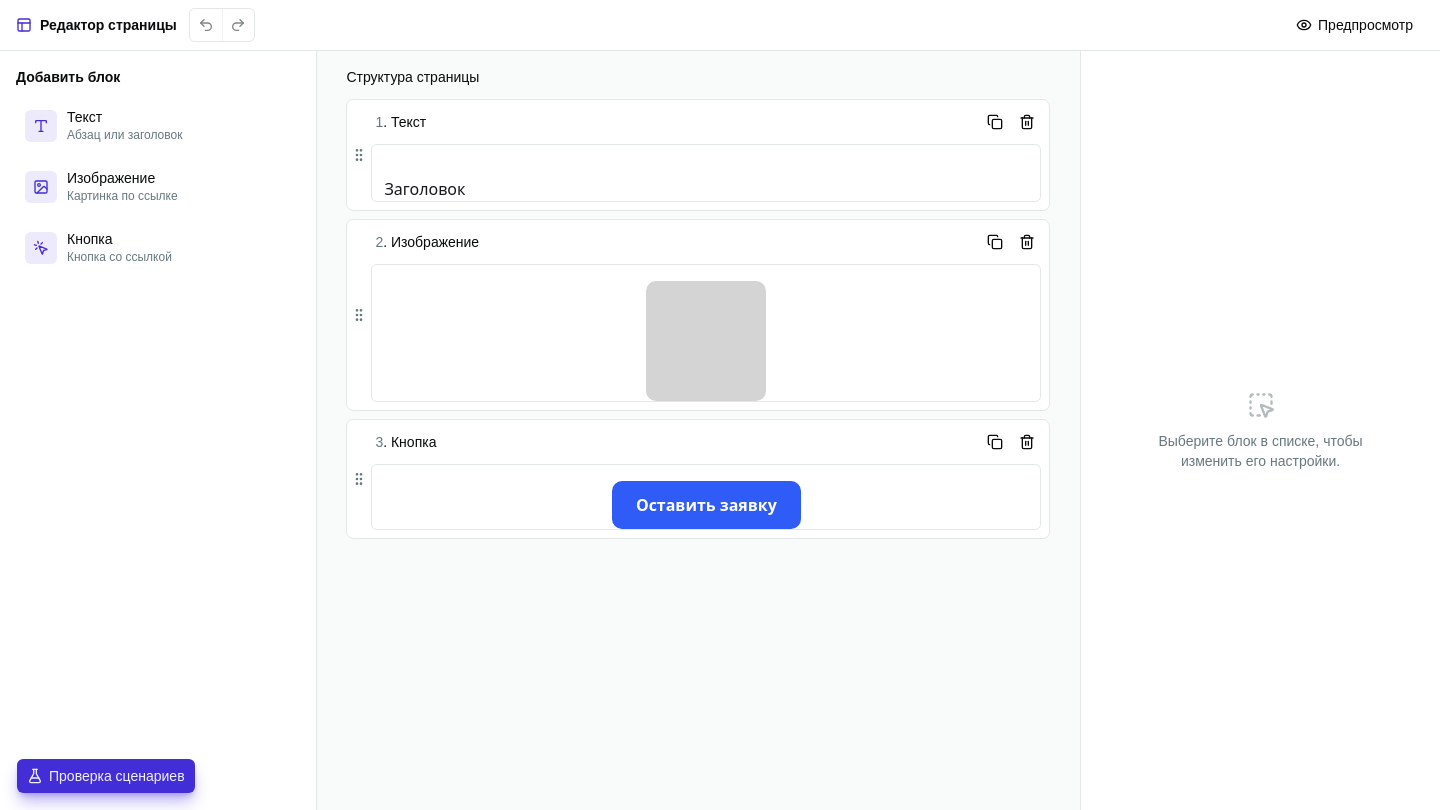
Test: history › drops the redo branch once a new change is made after undo
Expected: the heading "Структура страницы" is shown, [346,69,479,85]
What coordinates should you click on to do the following:
click the button "Кнопка Кнопка со ссылкой"
I would click on:
 (158, 248)
Its box is [16,221,300,274].
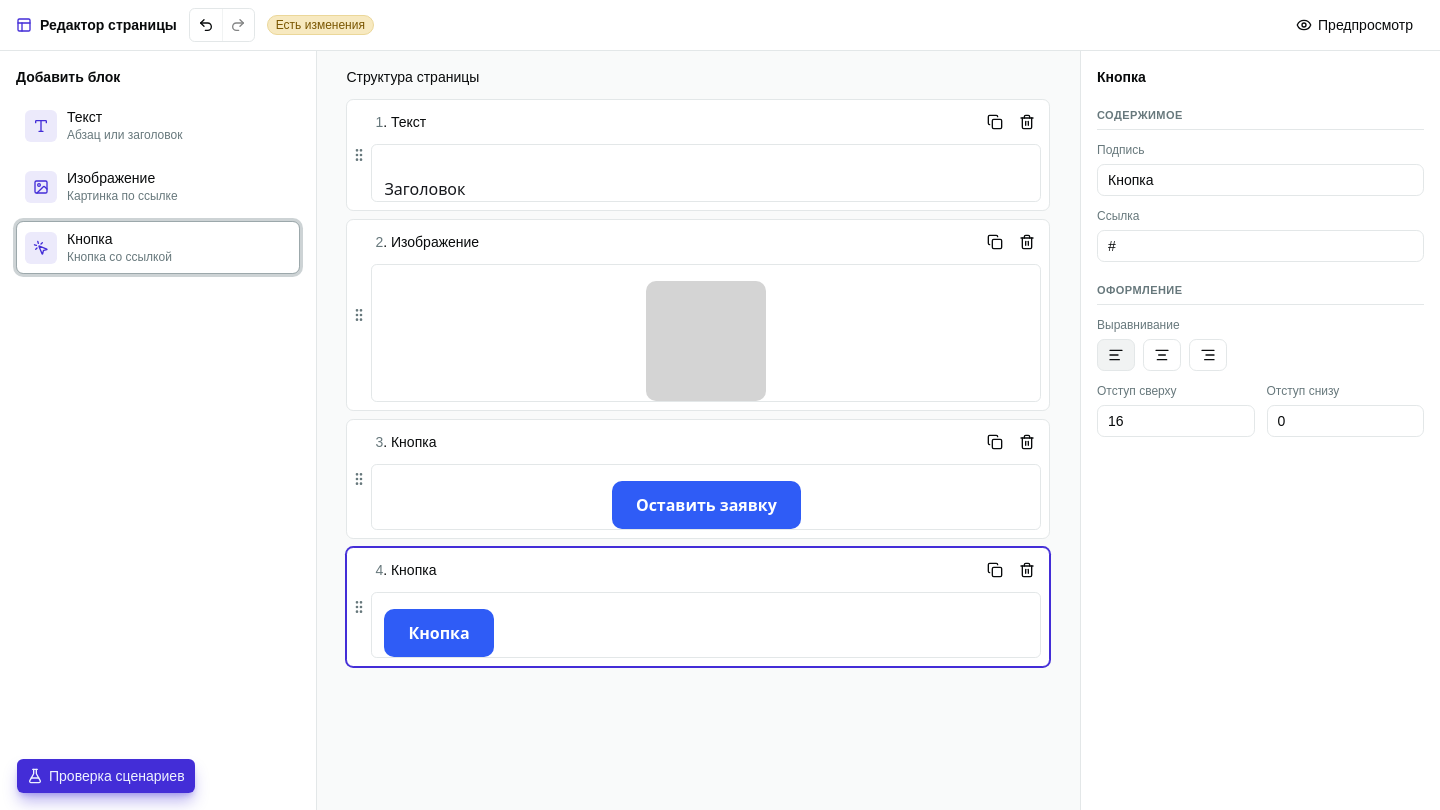
What coordinates should you click on to do the following:
click the button named "Отменить"
I would click on:
 (206, 25)
Its box is [190,9,222,41].
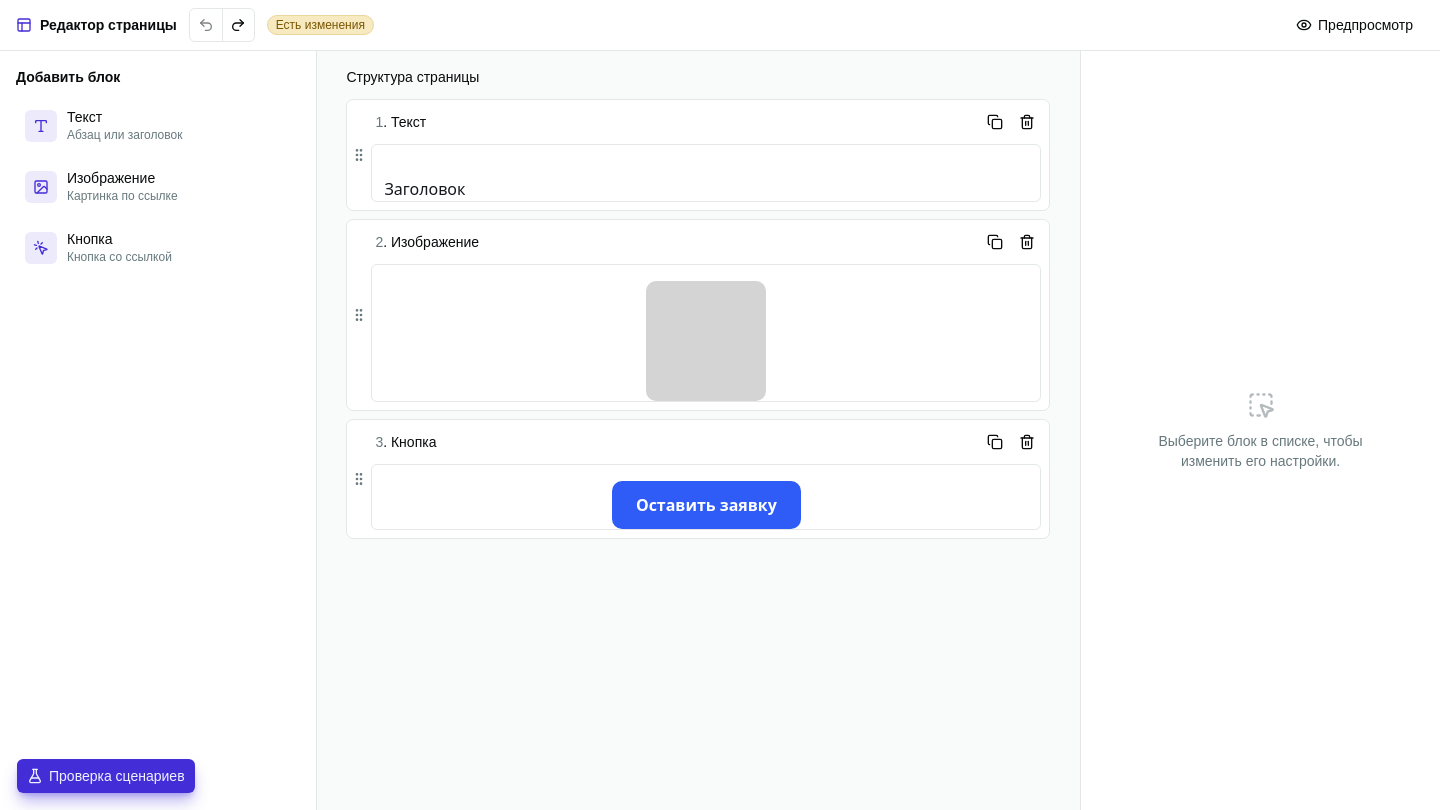
Expected: the button named "Повторить" is enabled, [222,9,254,41]
What coordinates should you click on to do the following:
click the button "Изображение Картинка по ссылке"
I would click on:
 (158, 186)
Its box is [16,160,300,213].
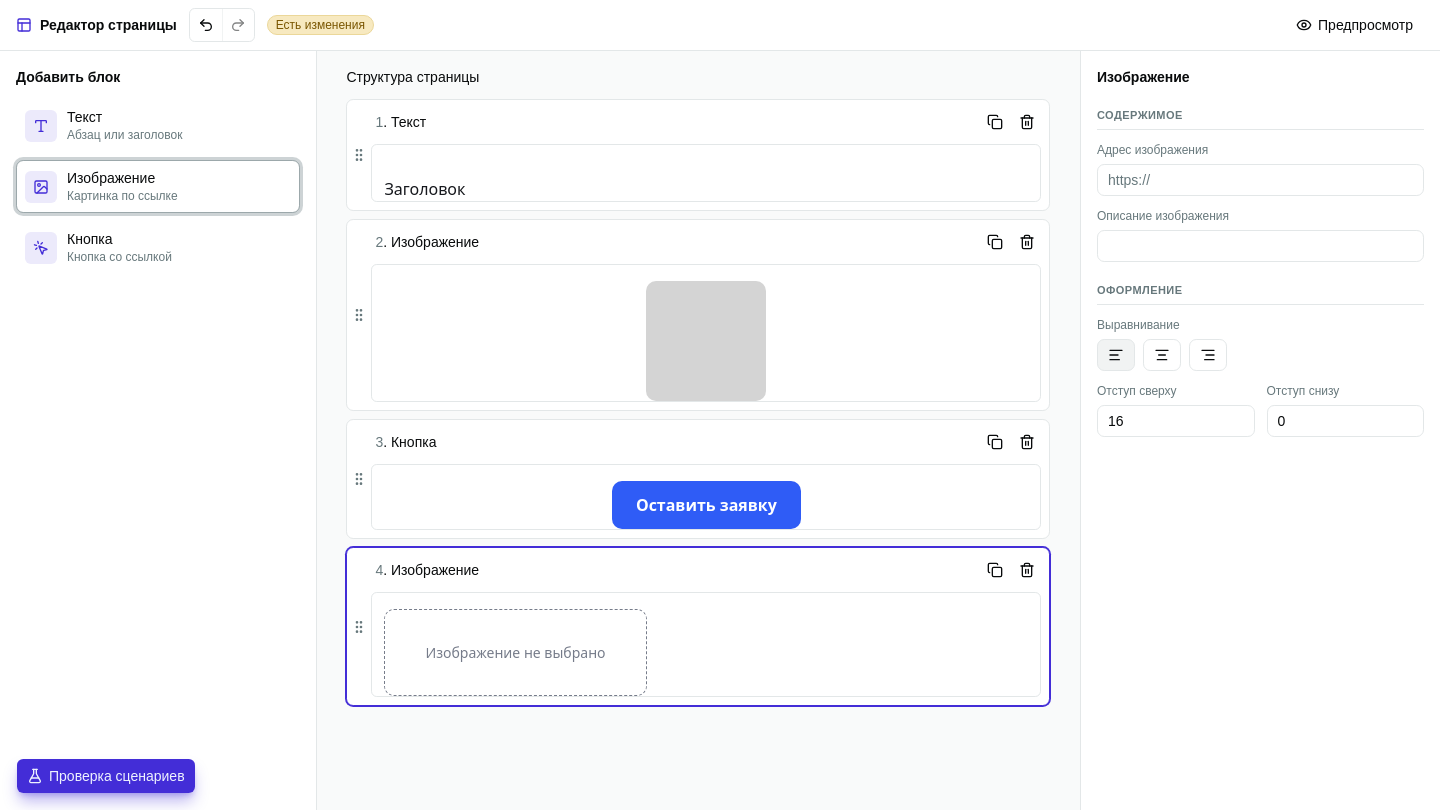
Expected: the button named "Повторить" is disabled, [222,9,254,41]
